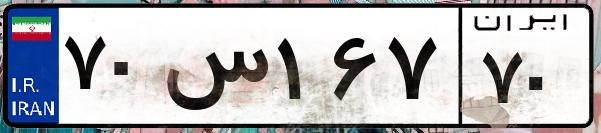0: (525, 38, 570, 115), (110, 28, 158, 98)
1: (270, 28, 330, 110)
6: (330, 28, 385, 110)
7: (385, 28, 445, 110), (57, 26, 110, 100), (475, 38, 525, 113)
س: (158, 20, 270, 120)
